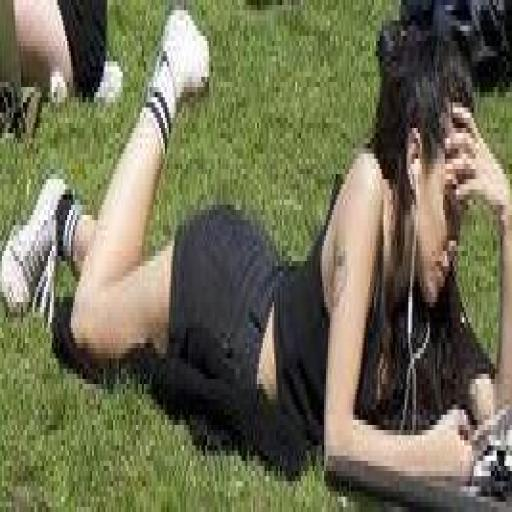person: (0, 11, 511, 481), (14, 0, 122, 102)
